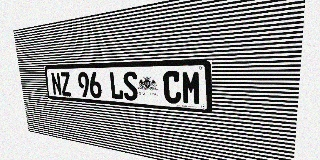6: (88, 72, 102, 98)
9: (77, 72, 90, 98)
C: (163, 71, 181, 104)
L: (109, 72, 124, 100)
M: (181, 71, 201, 105)
N: (50, 72, 62, 96)
S: (122, 71, 138, 101)
Z: (60, 72, 72, 96)
